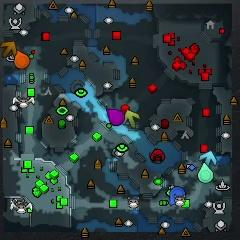p1: (169, 187, 185, 207)
p2: (198, 163, 213, 183)
p3: (106, 108, 124, 126)
p5: (14, 50, 29, 69)
x2: (123, 111, 139, 127)
x3: (200, 151, 217, 166)
x5: (0, 41, 16, 58)
